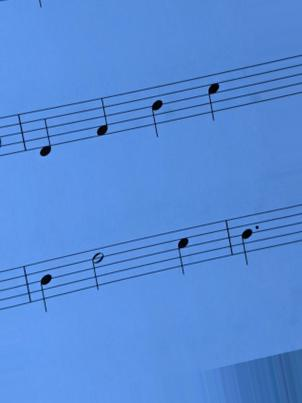note: (143, 86, 168, 145), (34, 257, 58, 316), (89, 92, 114, 144), (32, 107, 55, 161), (236, 212, 255, 276), (201, 72, 223, 127), (173, 226, 195, 278)
